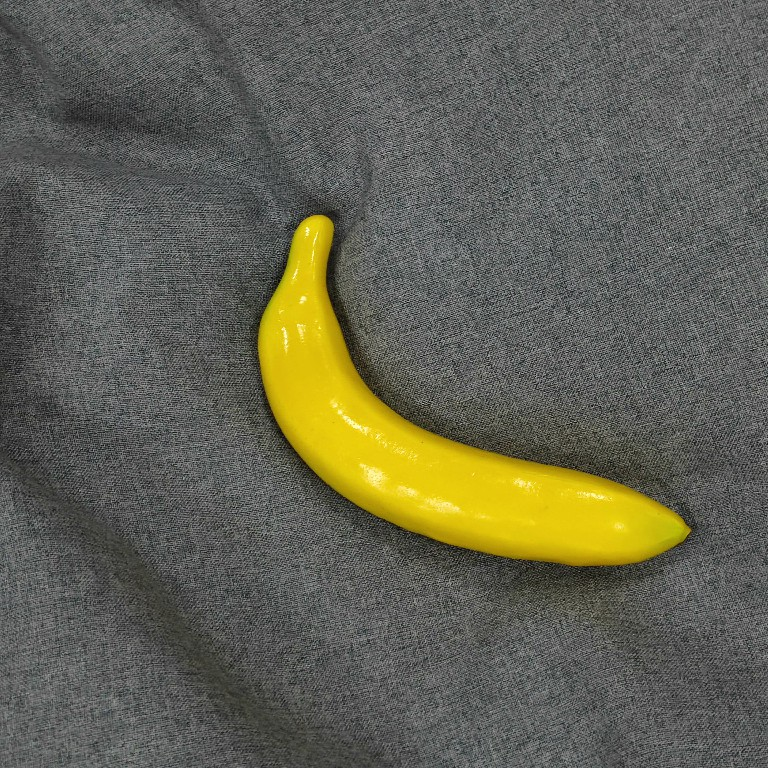fruit_banana: (250, 209, 697, 572)
